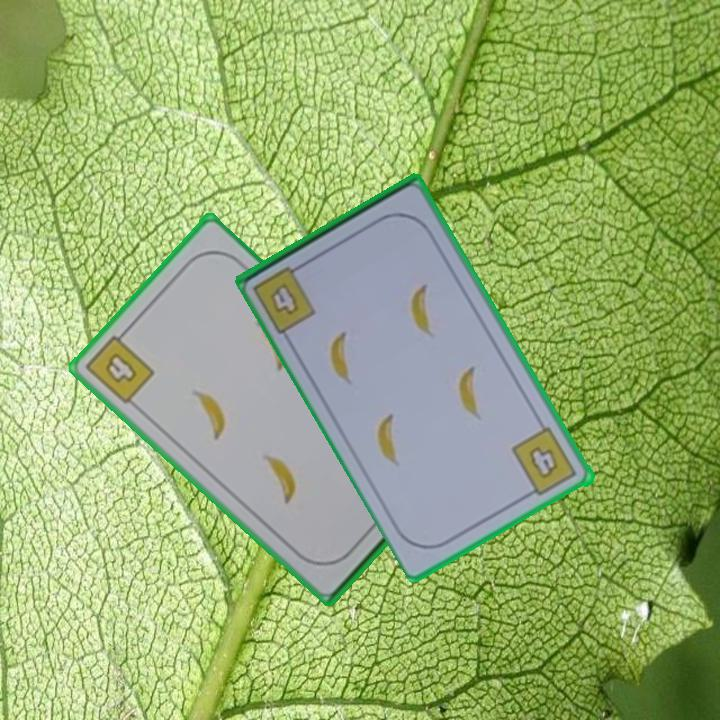4b: (81, 325, 158, 407), (509, 424, 581, 501), (267, 283, 302, 319)
